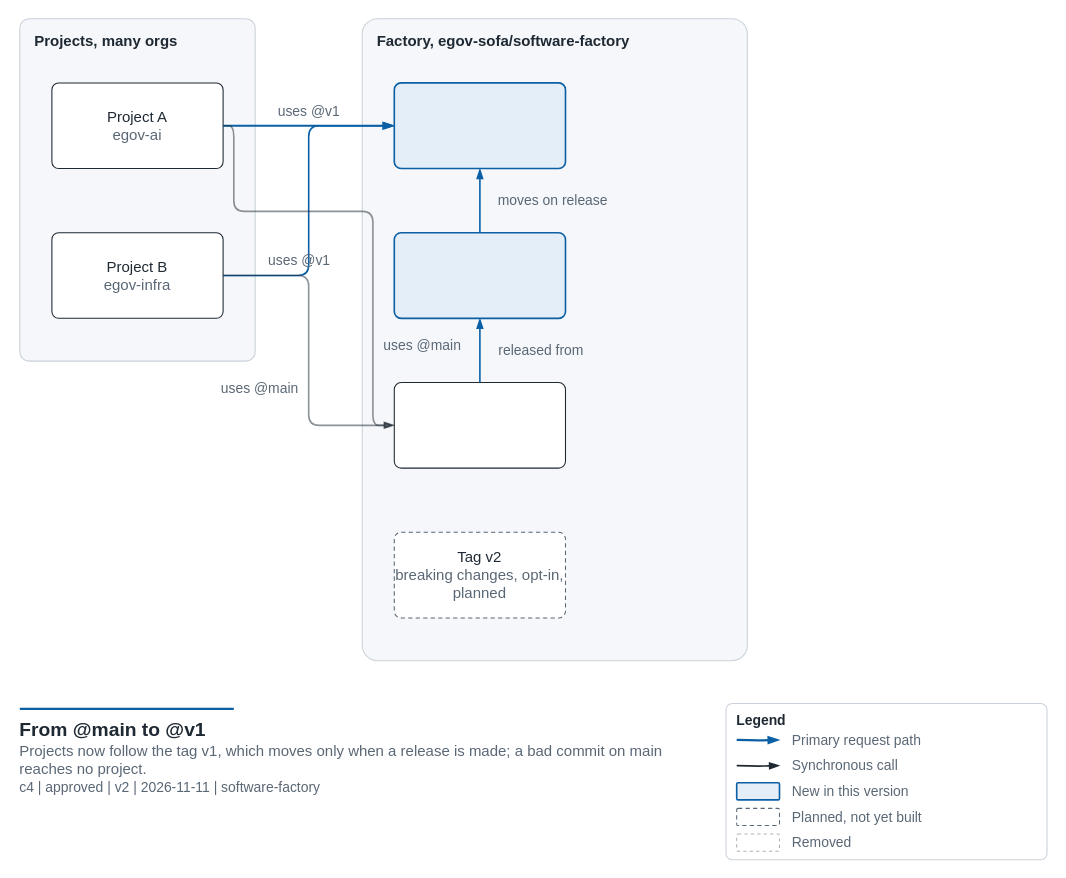
Some shapes in this 1066 by 878 pixel diagram are drawn without their labels. Here are the shapes that lost their labels. From the top down, the centre of each, then its label:
pixel 479 125: Tag v1 last compatible release
pixel 479 275: Release workflow tags vX.Y.Z, moves v1
pixel 479 424: main branch every merged commit
